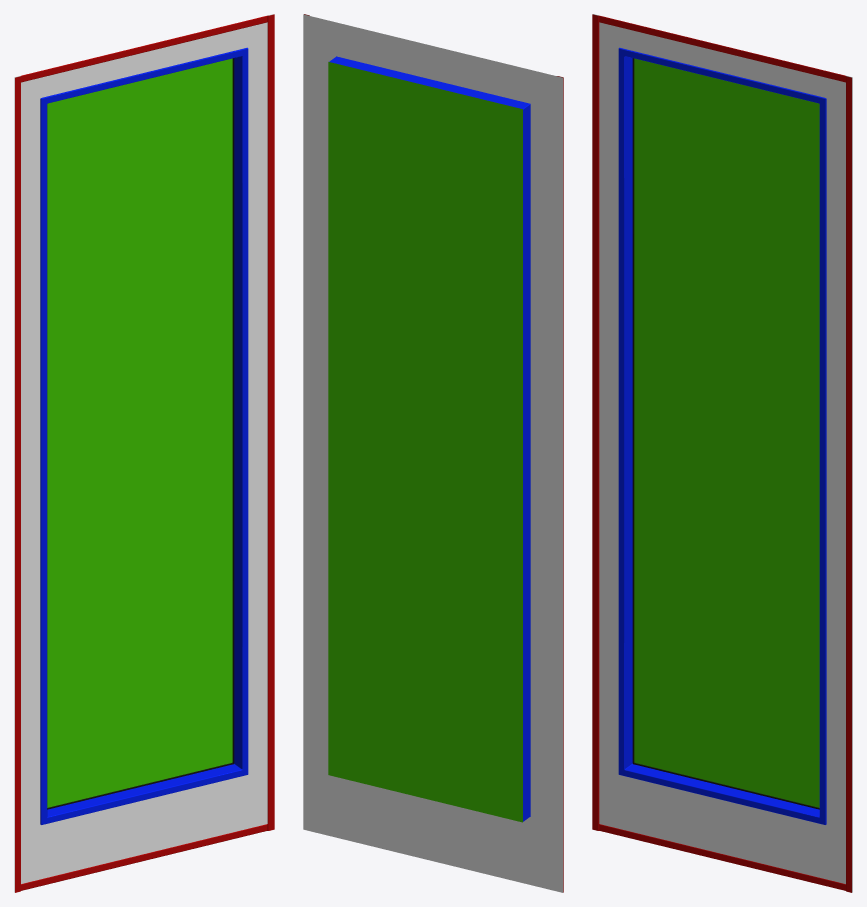
Rendered from Wall02cWindow02.fbx.
3 renders of one model, left to right at view 1: azimuth 30°, elevation 25°; view 2: azimuth 150°, elevation 25°; view 3: azimuth 330°, elevation 25°, orthographic.
Visible parts, largest first — view 1: Wall02cWindow02; view 2: Wall02cWindow02; view 3: Wall02cWindow02.
Boxes of the visible parts, x1,y1,x2,y2 form: Wall02cWindow02: (14,14,274,892); Wall02cWindow02: (303,14,563,892); Wall02cWindow02: (592,14,852,892).
Bounding box in the file's own units: 100 × 300 × 5.5.
